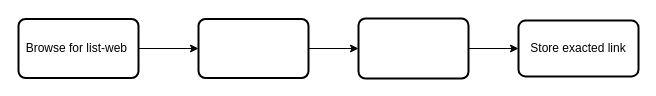
Image size: 656x96. Some labels were removed from this diagram. The centre of each missing label's shape, as x and y in pixels:
get each url: [253,48]
Update full link: [413,48]
